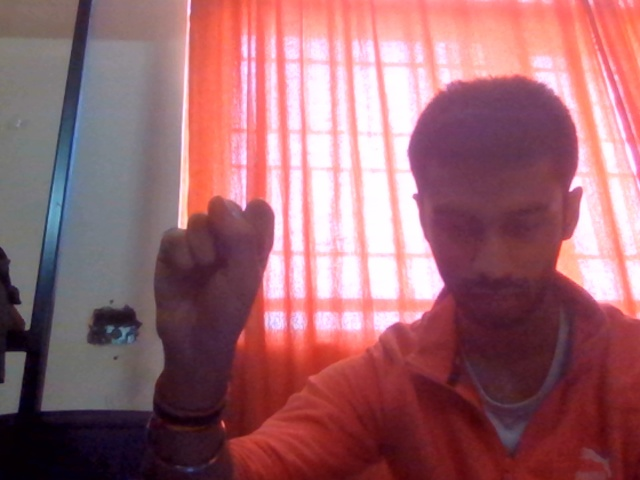S: (134, 166, 318, 405)
